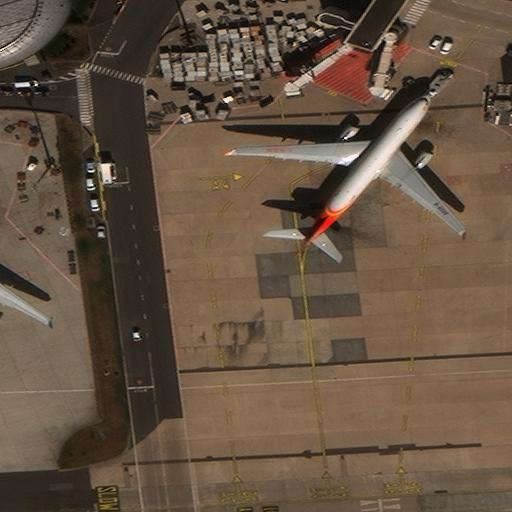Large Civil Transport: (233, 95, 465, 242), (0, 245, 51, 336)
